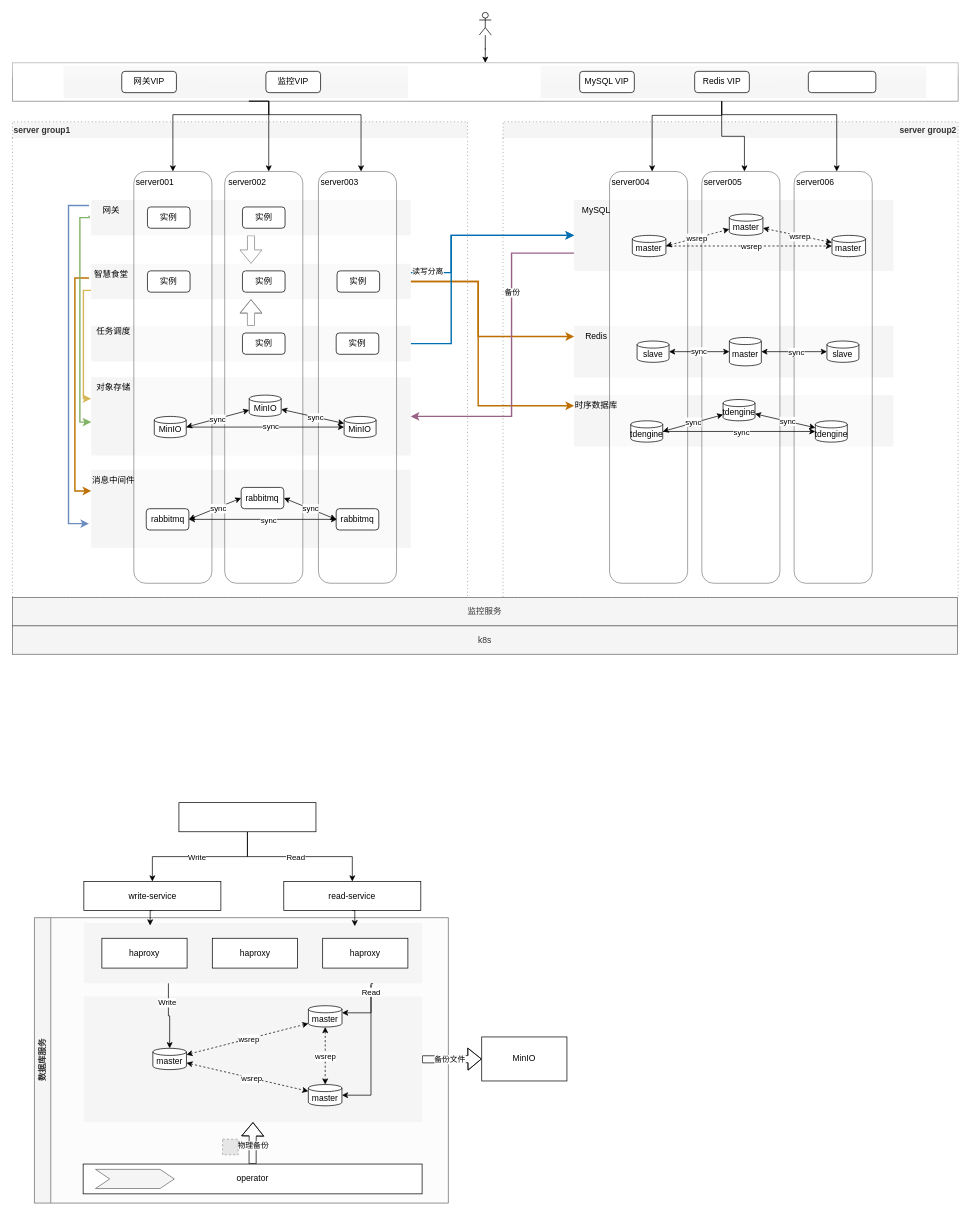
Image size: 971x1216. Some labels were removed from this diagram. Grey dashed boxes stand in for pictures. The centre of each missing label's shape, as x and y in pixels:
"VIP group" goes at (x=485, y=81).
"备份周期" goes at (x=134, y=1179).
"应用" goes at (x=247, y=817).
"时序数据库 VIP" goes at (x=842, y=82).
